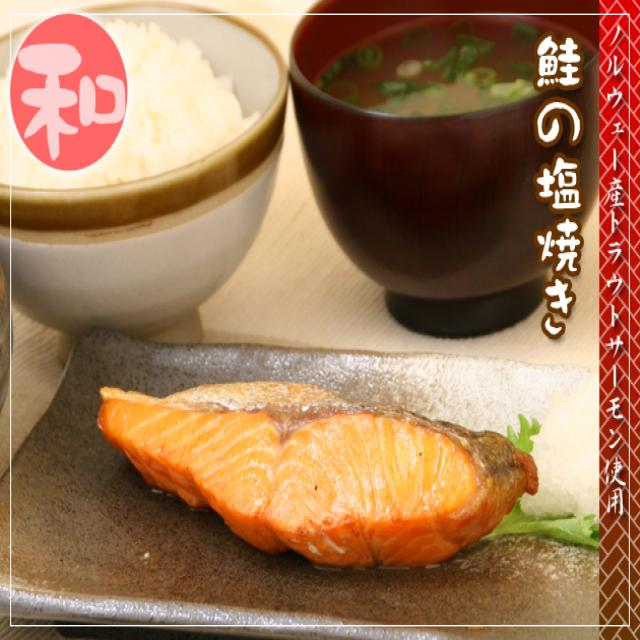熟制海鲜: (59, 338, 526, 584)
